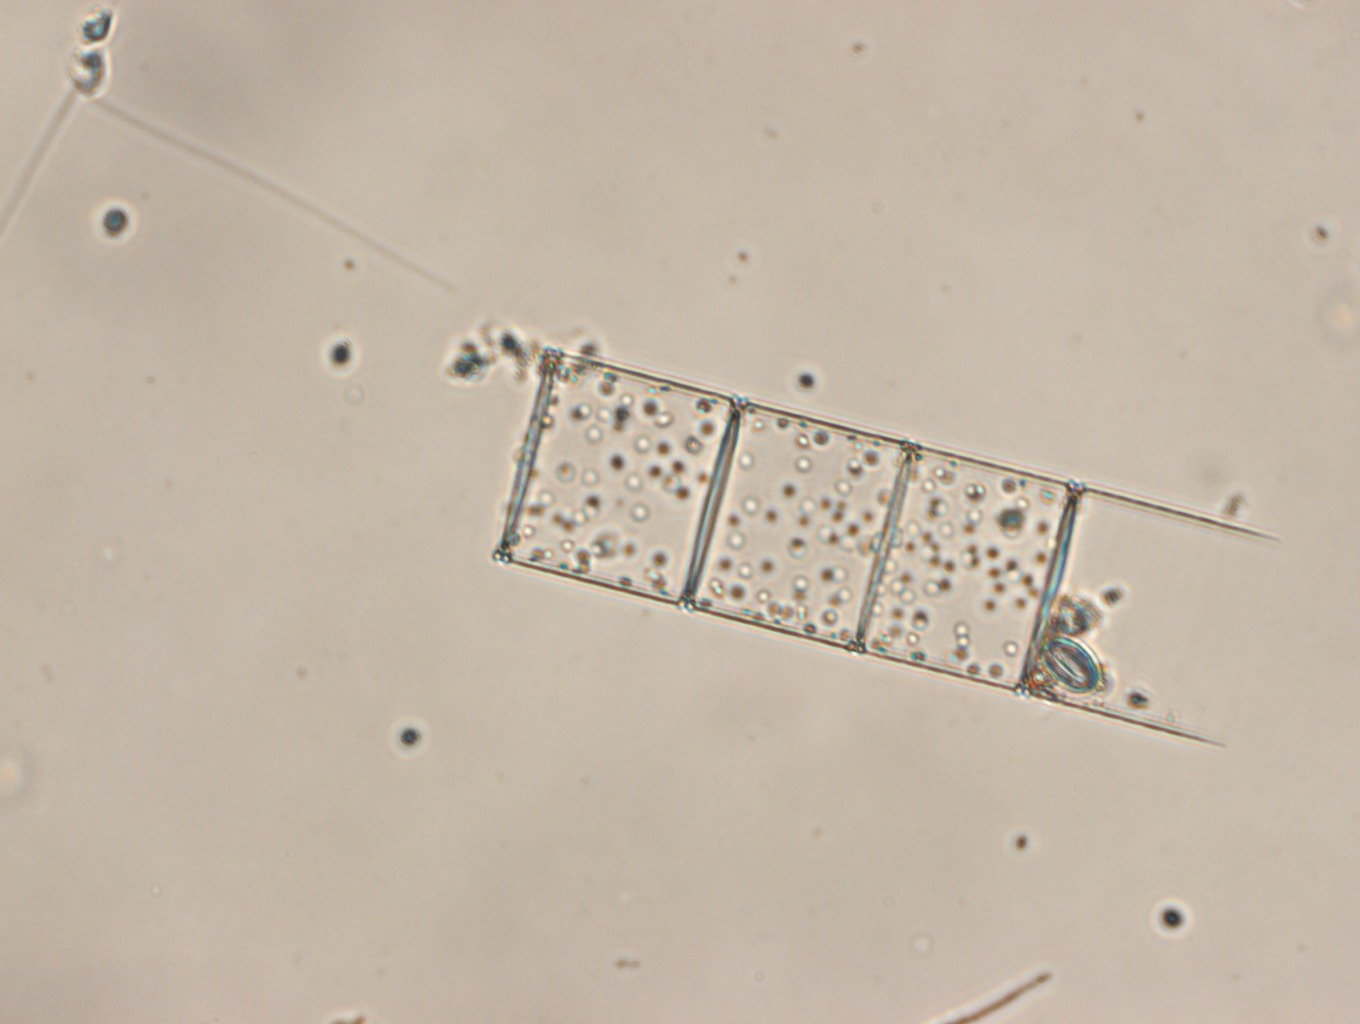guinardia flaccida: (493, 345, 1279, 752)
